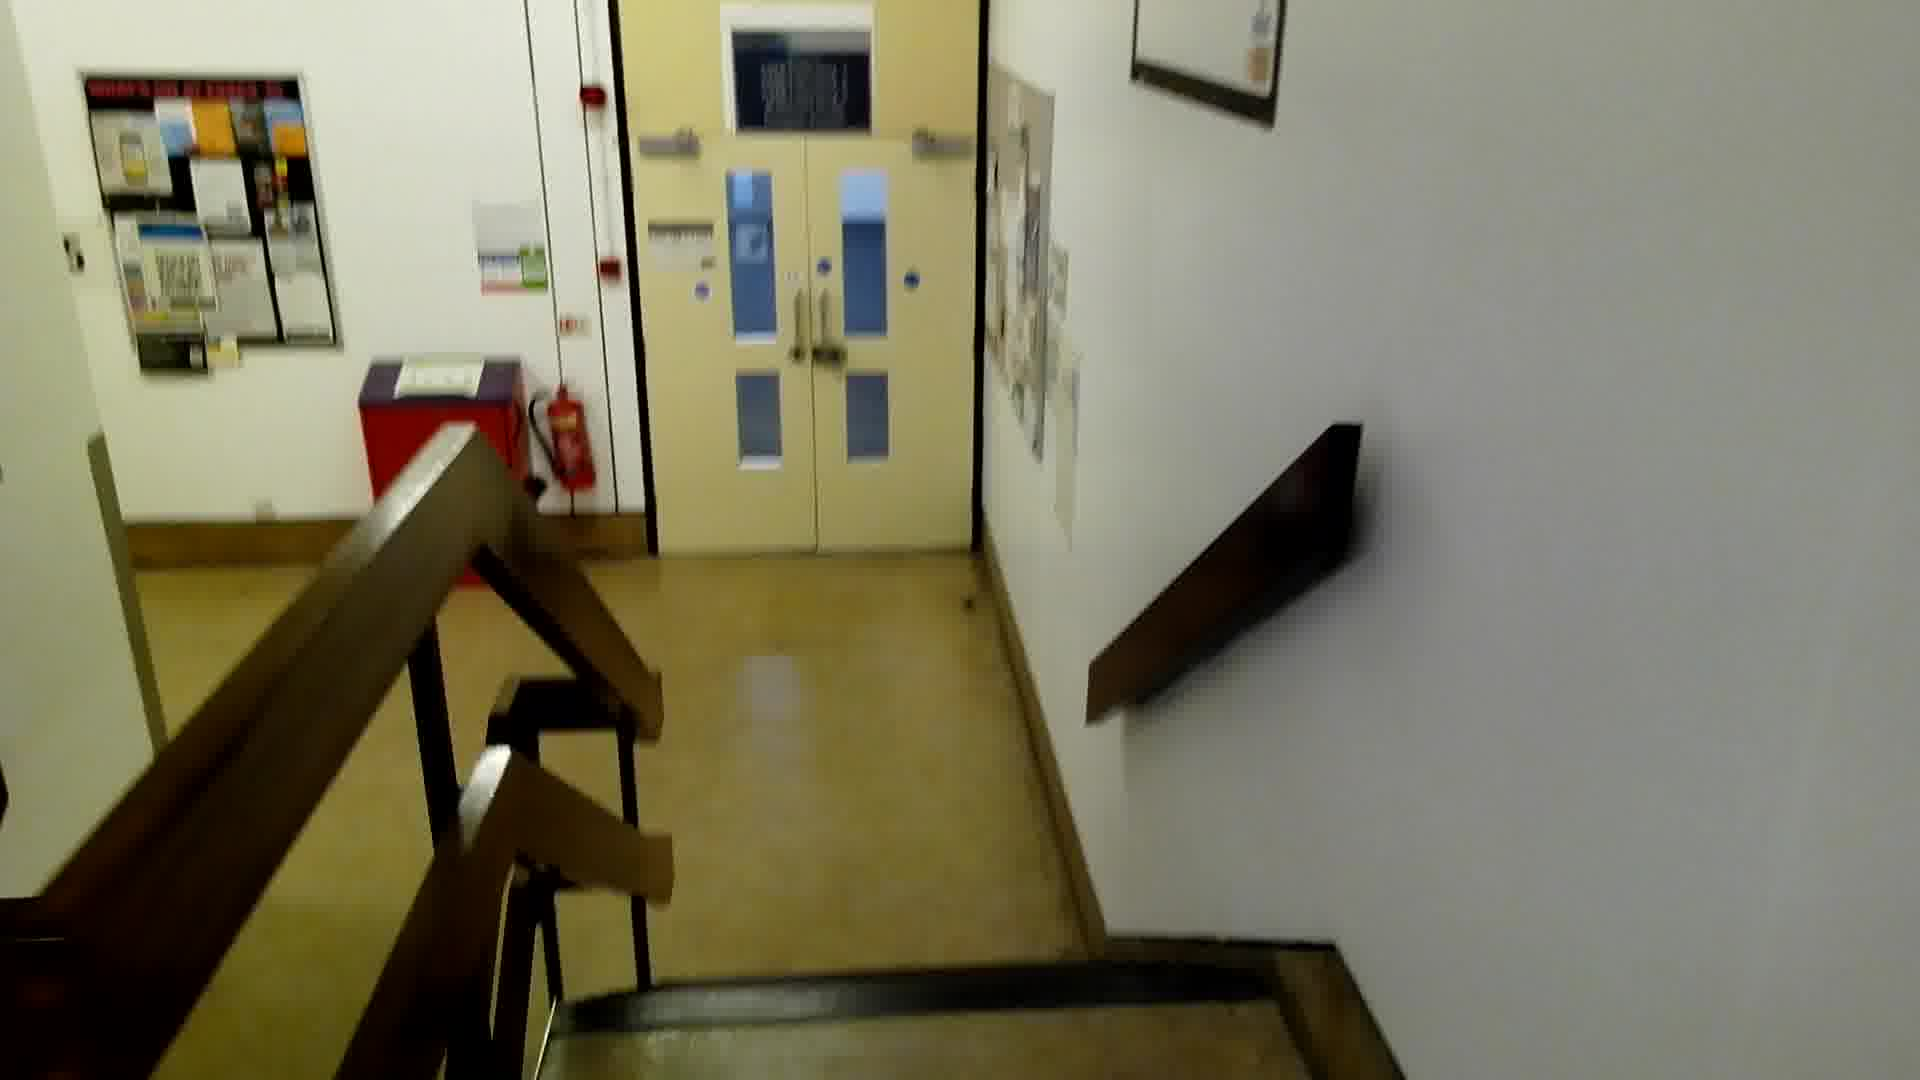Door: (620, 133, 1004, 564)
Stairs: (462, 571, 1350, 1036)
